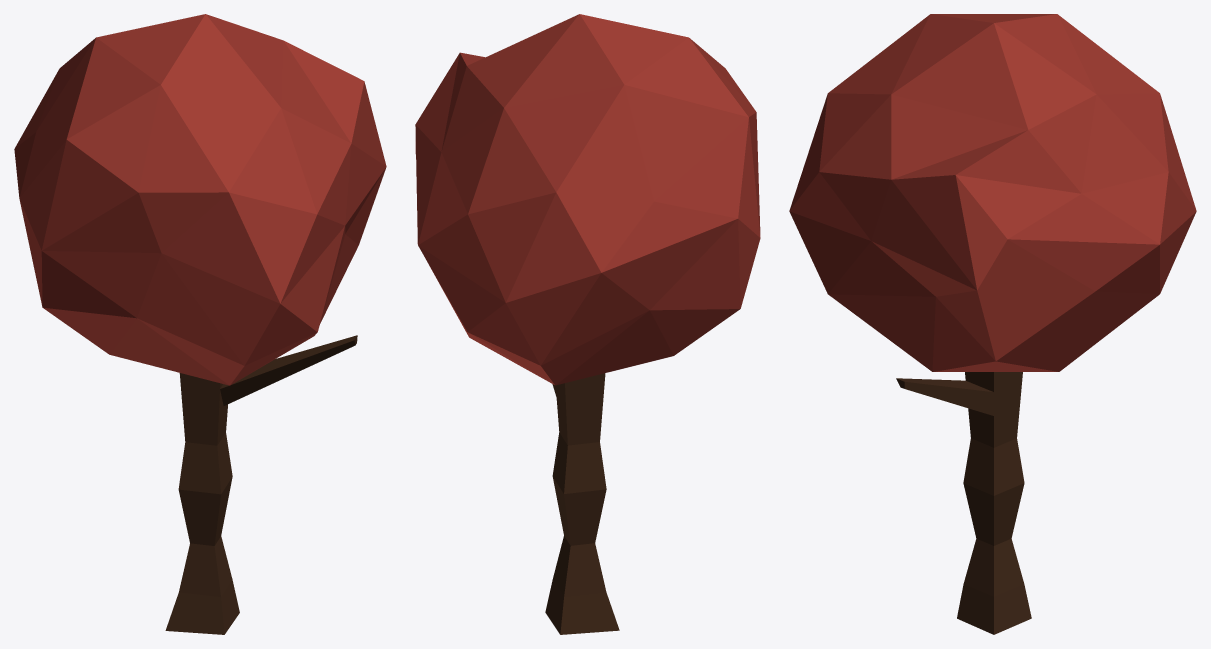
File: Tree_39_Red.fbx
3 renders of one model, left to right at view 1: azimuth 30°, elevation 25°; view 2: azimuth 150°, elevation 25°; view 3: azimuth 270°, elevation 25°, orthographic.
Parts seen in each view (by area): view 1: Tree_39_Red_Part_1, Tree_39_Red_Part_2, Tree_39_Red_Part_3; view 2: Tree_39_Red_Part_1, Tree_39_Red_Part_2; view 3: Tree_39_Red_Part_1, Tree_39_Red_Part_2, Tree_39_Red_Part_3.
Part boxes in pixels (box(x1,y1,x2,y2)): Tree_39_Red_Part_1: box(14, 14, 386, 385); Tree_39_Red_Part_2: box(165, 373, 239, 634); Tree_39_Red_Part_3: box(220, 335, 357, 405); Tree_39_Red_Part_1: box(415, 14, 760, 385); Tree_39_Red_Part_2: box(545, 373, 619, 634); Tree_39_Red_Part_1: box(789, 14, 1196, 371); Tree_39_Red_Part_2: box(957, 372, 1031, 634); Tree_39_Red_Part_3: box(896, 378, 993, 415).
Bounding box in the file's own units: 474 × 798 × 495.
